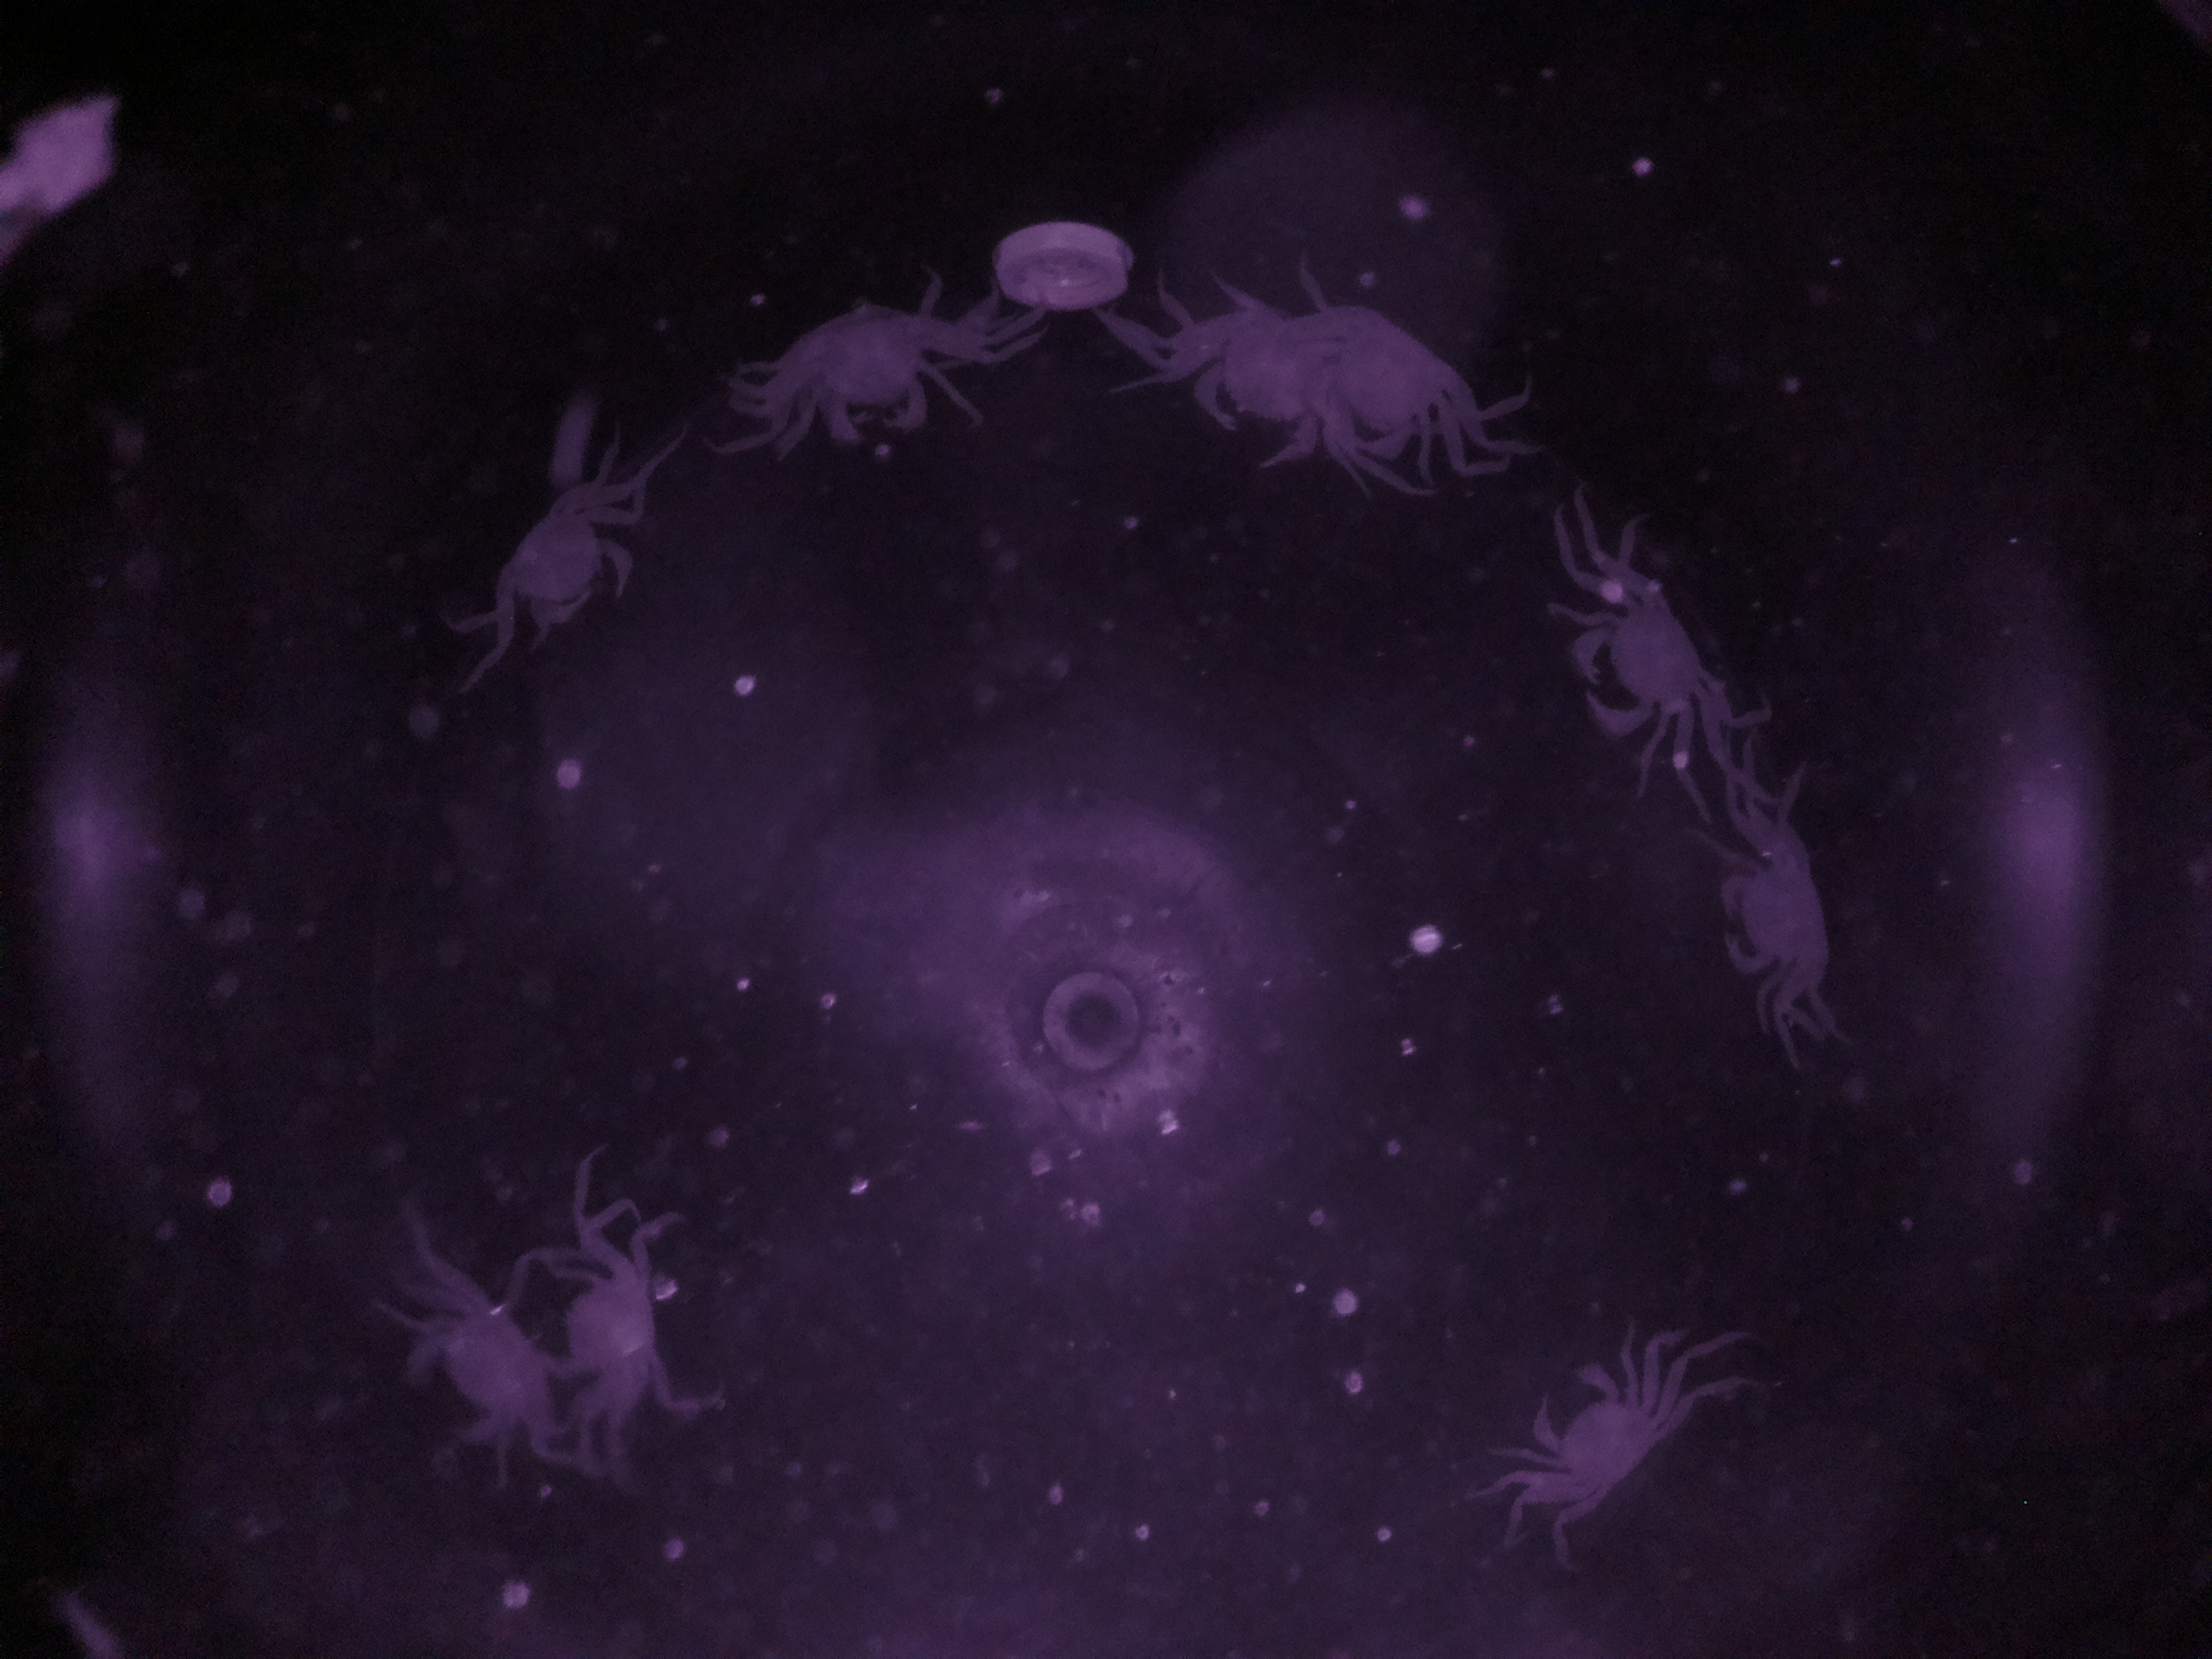Crab: (1486, 1330, 1693, 1544), (1550, 544, 1728, 793), (1696, 817, 1864, 1037)
